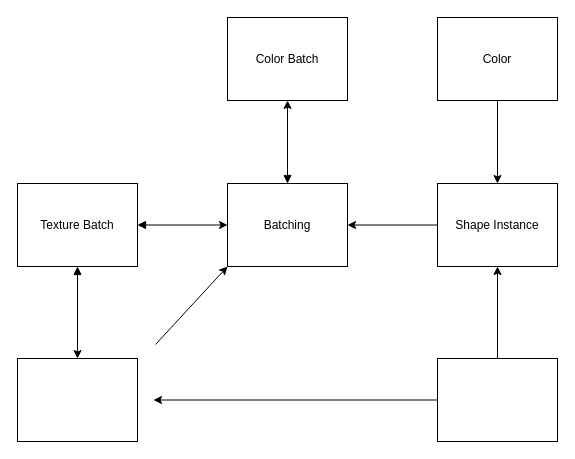
The diagram is 575 pixels wide and 459 high, and some of its shapes have lost their labels. The centre of each missing label's shape, as x and y in pixels:
"Texture" goes at [497,400].
"Texture Properties" goes at [77,400].
